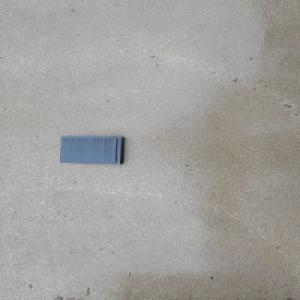PlasticPart: (58, 135, 127, 164)
